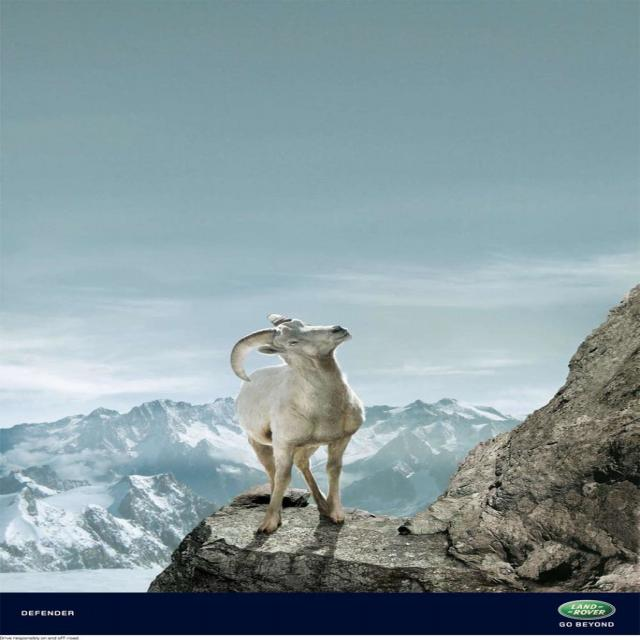Goat: (231, 314, 365, 534)
